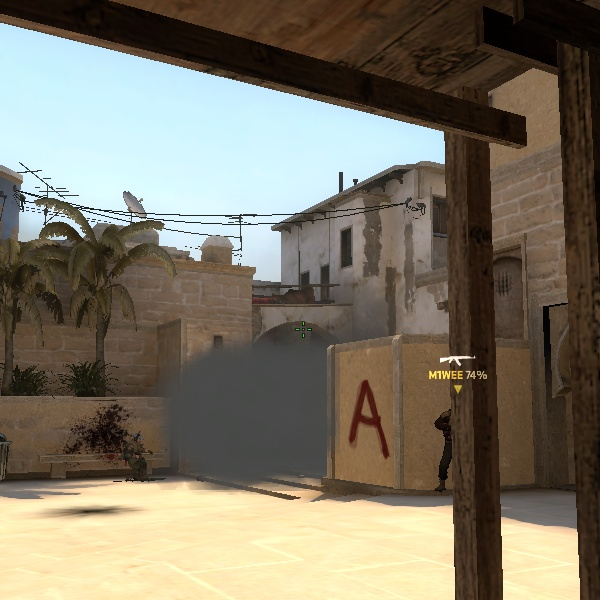t_body: (423, 396, 460, 494)
